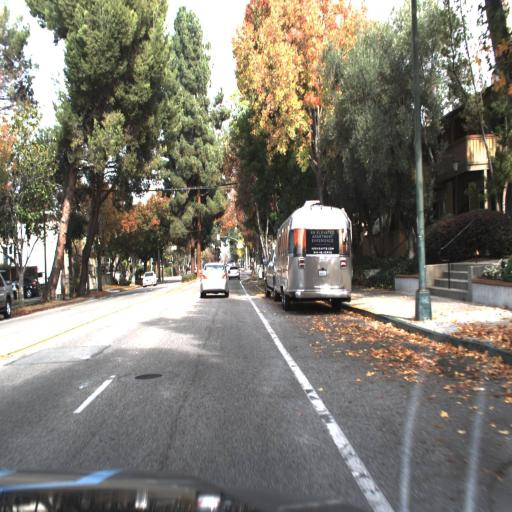car: (190, 253, 236, 308), (0, 273, 15, 323), (10, 273, 38, 298), (226, 257, 244, 282), (140, 268, 158, 292)
truck: (259, 193, 364, 316)
